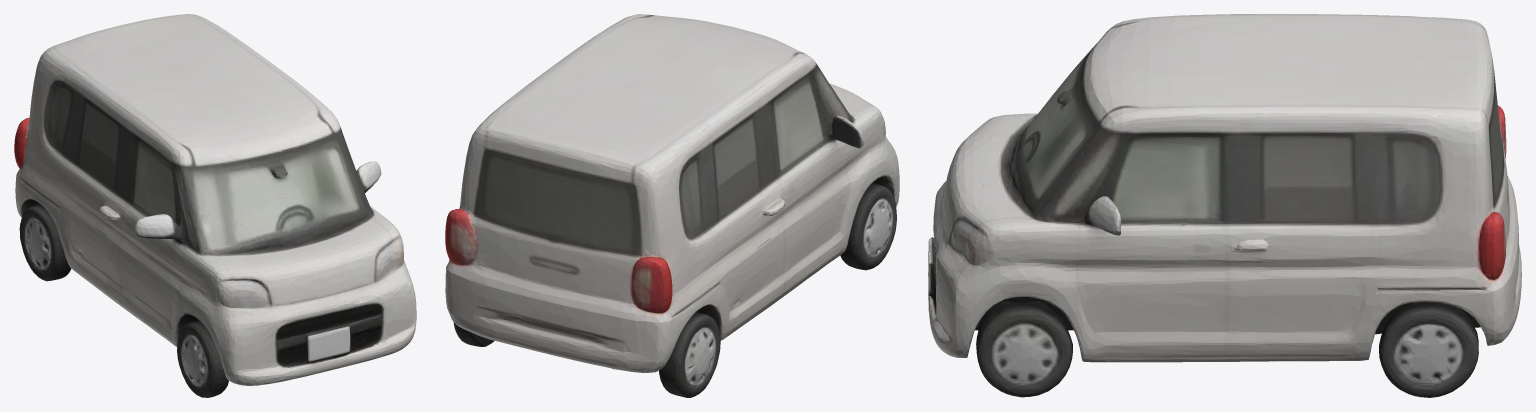
Rendered from car_kei.glb.
3 renders of one model, left to right at view 1: azimuth 30°, elevation 25°; view 2: azimuth 150°, elevation 25°; view 3: azimuth 270°, elevation 25°, orthographic. The views are drawn at different scales.
Parts seen in each view (by area): view 1: geometry_0; view 2: geometry_0; view 3: geometry_0.
Boxes of the visible parts, left/top/right/bottom form: geometry_0: left=14, top=14, right=416, bottom=397; geometry_0: left=445, top=14, right=899, bottom=397; geometry_0: left=928, top=14, right=1521, bottom=397.
Bounding box in the file's own units: 0.6153 × 0.5207 × 0.9986.
1 material, 1 textured.
